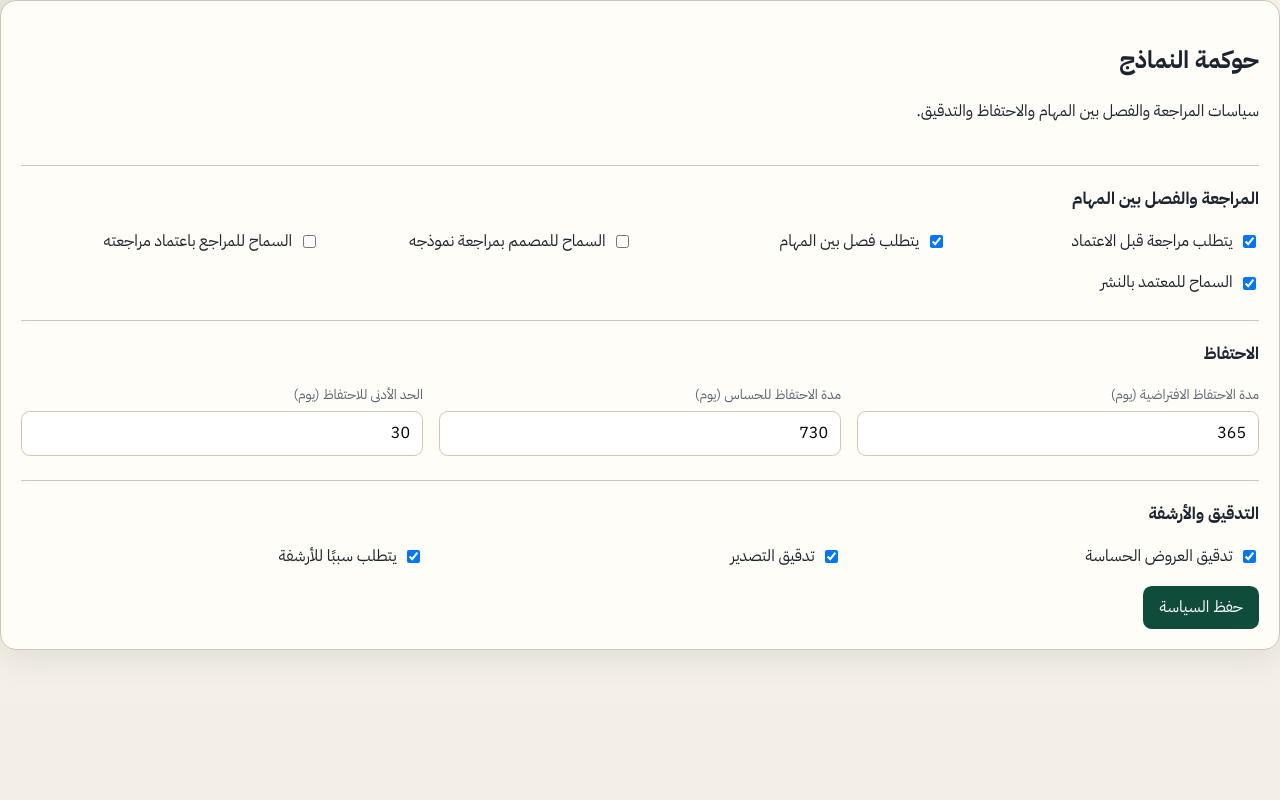
it: FormsGovernanceSettingsPage › saves policy on submit
Replace the text in the number field labelled "مدة الاحتفاظ الافتراضية" with "400": [1058, 434] box [857,411,1259,456]
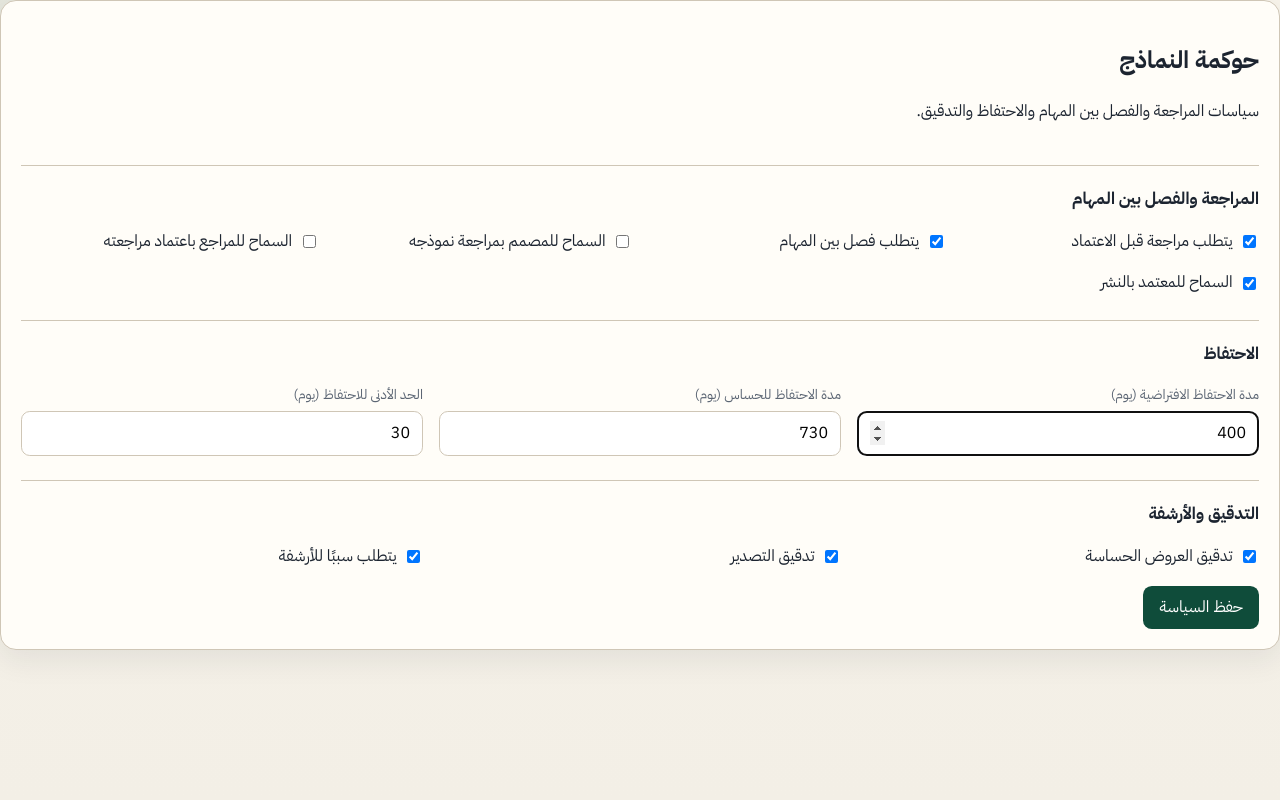
Click the button "حفظ السياسة": [1201, 607] box [1143,586,1259,629]
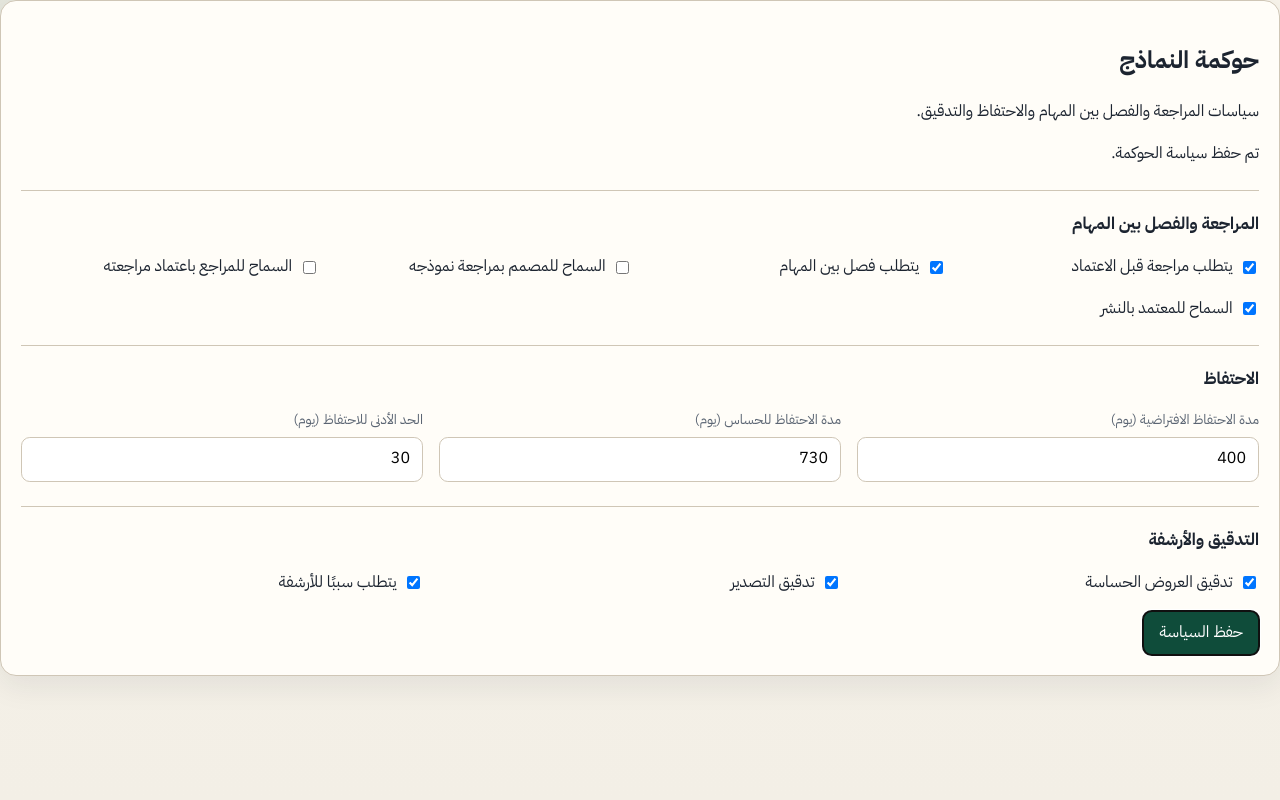
Now the text "تم حفظ سياسة الحوكمة." is shown, box [1111,141,1259,165]
